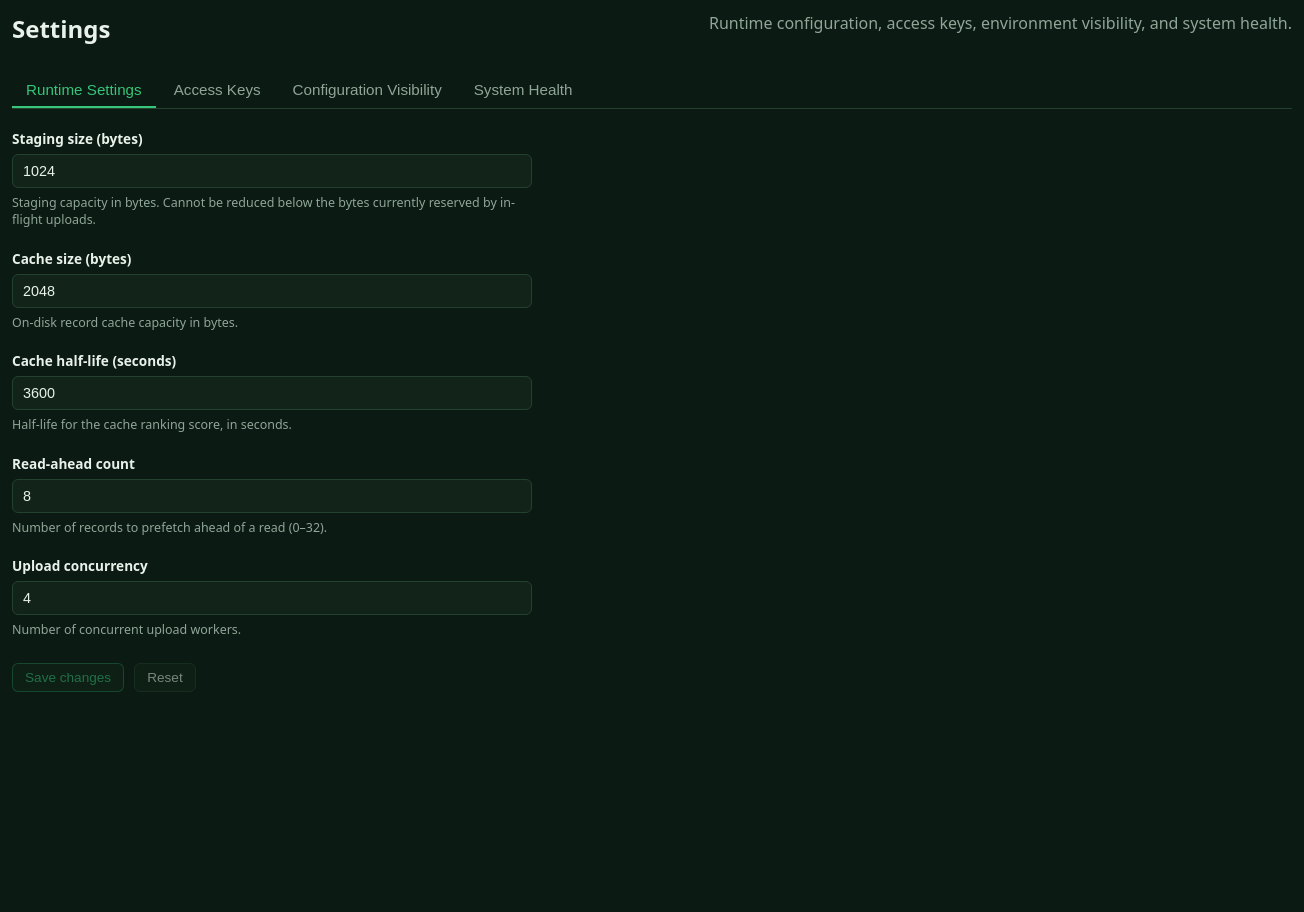
Scenario: Runtime Settings panel behaviour › on 409 shows the minimum permitted value and keeps the form dirty (Req 4.7)
Note: Reduce staging below the reserved amount, then submit.
Replace the text in the number field labelled "Staging size (bytes)" with "100": (272, 171) [12,154,532,188]
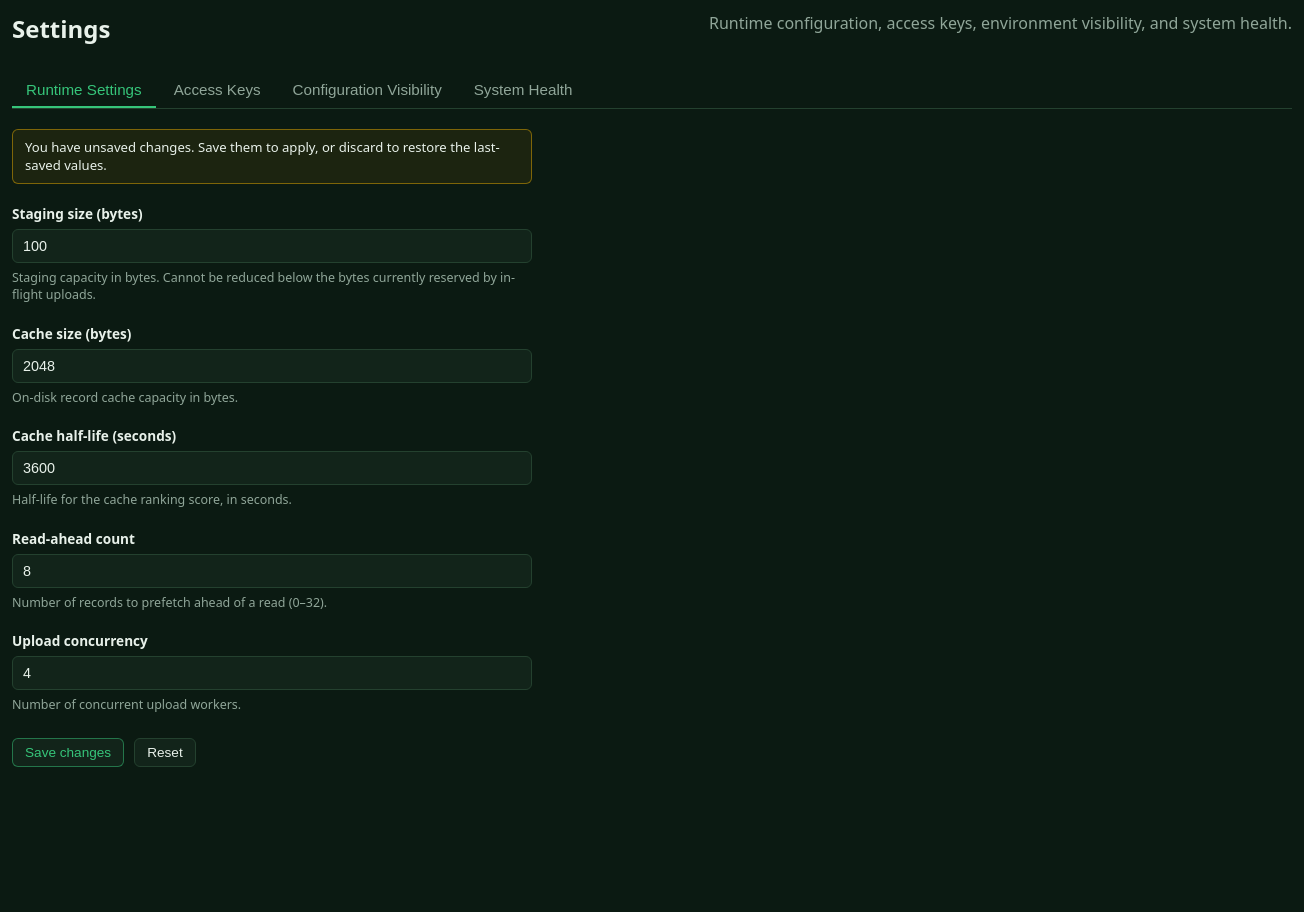
Click the button "Save changes": (68, 752) [12,738,124,767]
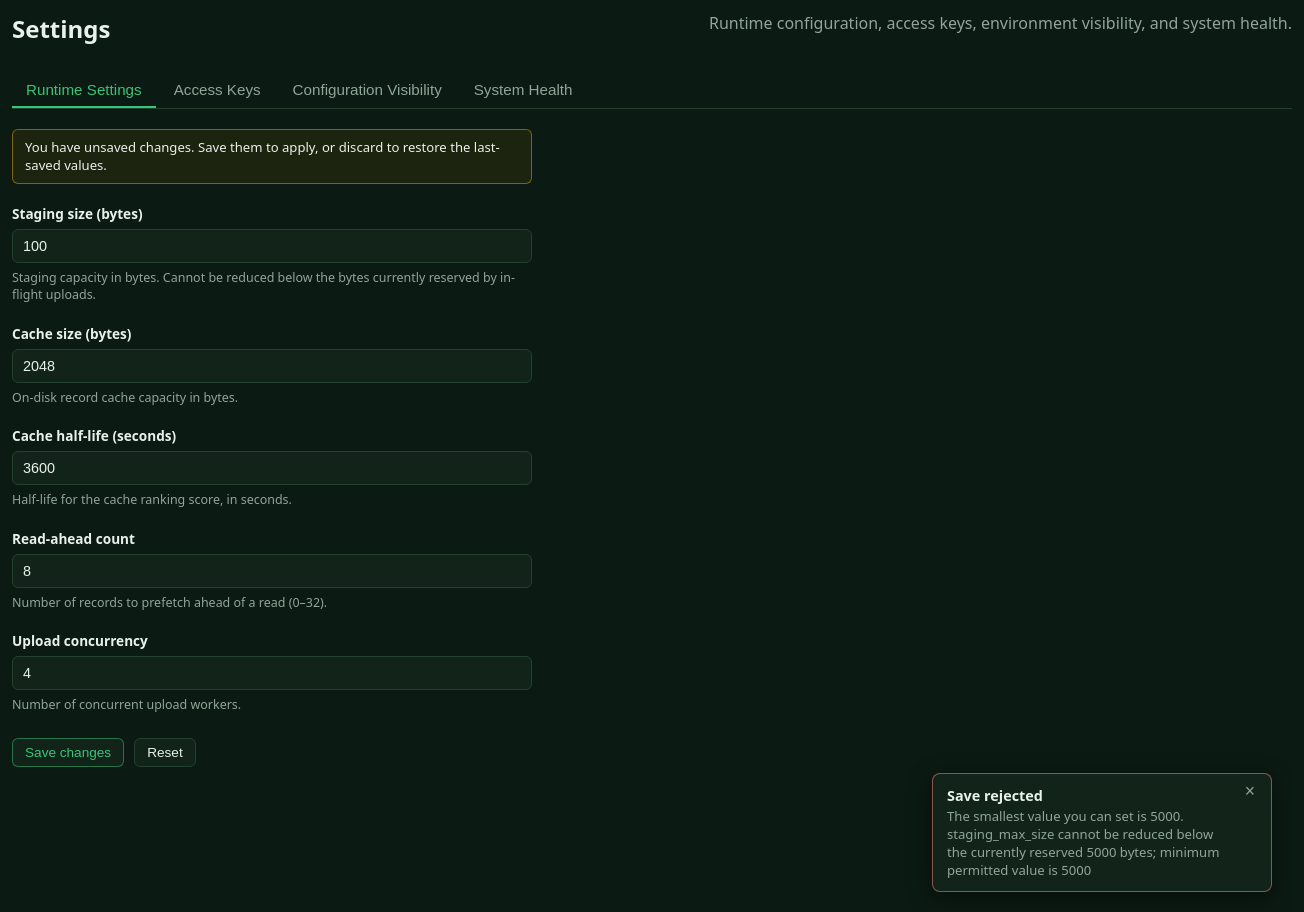
Result: the message with test id "unsaved-indicator" is shown at [12,129,532,184]
Result: the button "Save changes" is enabled at [12,738,124,767]
Result: the text "smallest value you can set is 5000" is shown at [947,807,1219,879]
